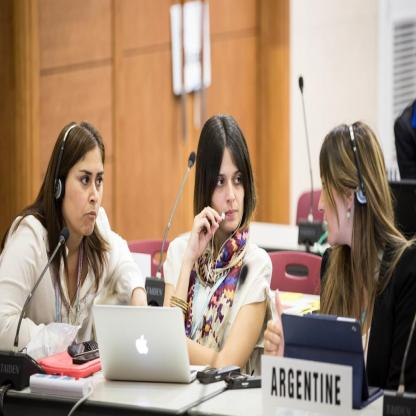board: (92, 305, 209, 387)
